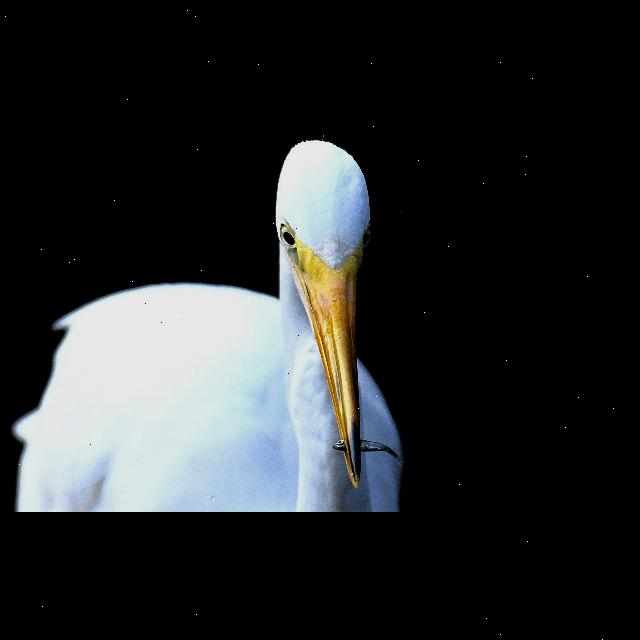egret: (0, 130, 414, 512)
